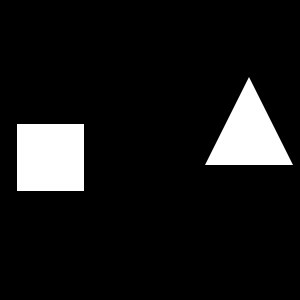circle: (17, 124, 84, 191)
triangle: (205, 77, 293, 165)
